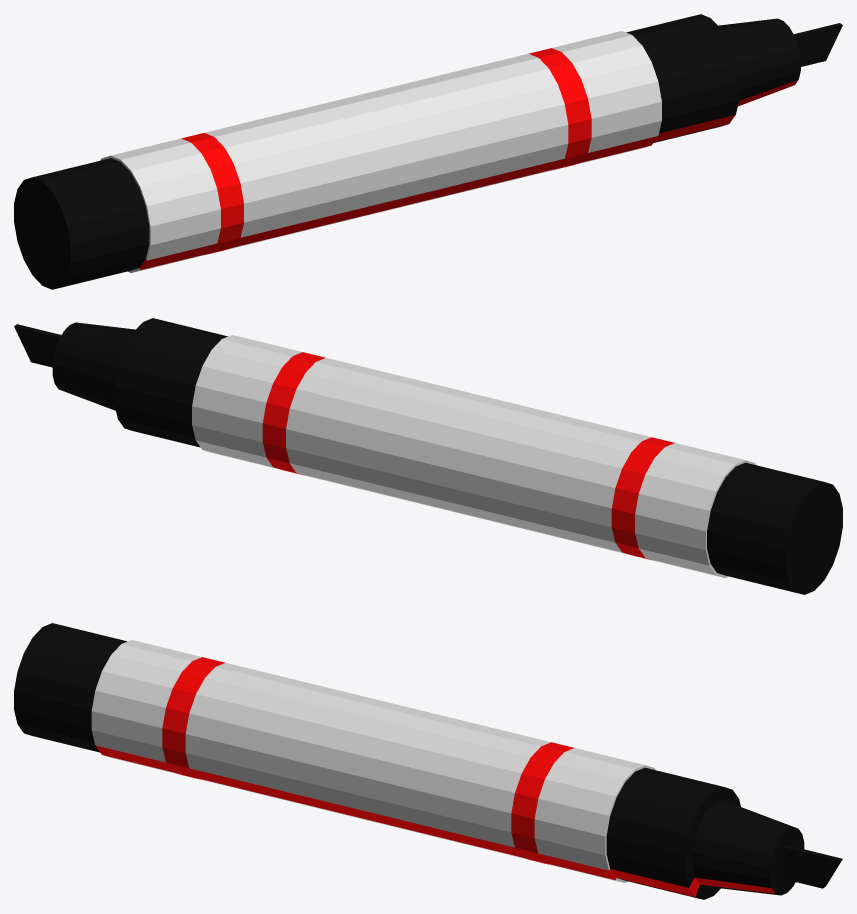
The model's file is Thick marker.obj.
3 views of the same model, one above another, from view 1: azimuth 30°, elevation 25°; view 2: azimuth 150°, elevation 25°; view 3: azimuth 330°, elevation 25° (orthographic).
Visible parts, largest first — view 1: Cylinder002, Box002; view 2: Cylinder002, Box002; view 3: Cylinder002, Box002.
Part boxes in pixels (left/top/right/bottom): Cylinder002: left=14, top=14, right=800, bottom=289; Box002: left=794, top=23, right=842, bottom=66; Cylinder002: left=52, top=318, right=842, bottom=594; Box002: left=14, top=324, right=61, bottom=367; Cylinder002: left=14, top=623, right=804, bottom=899; Box002: left=783, top=845, right=842, bottom=888.
Size of the model in its own units: 952812 by 124481 by 122590.
